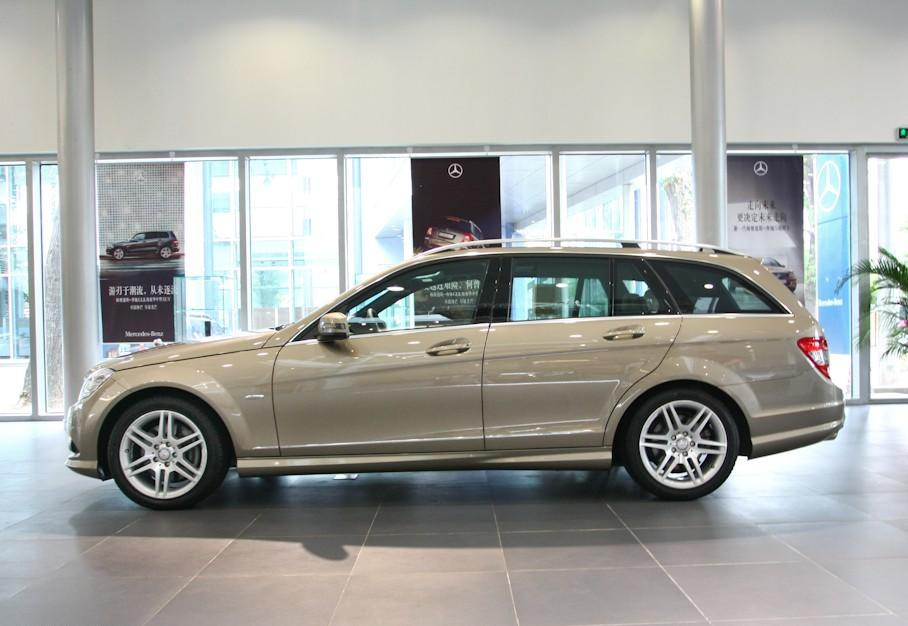Wagon: (65, 245, 846, 514)
